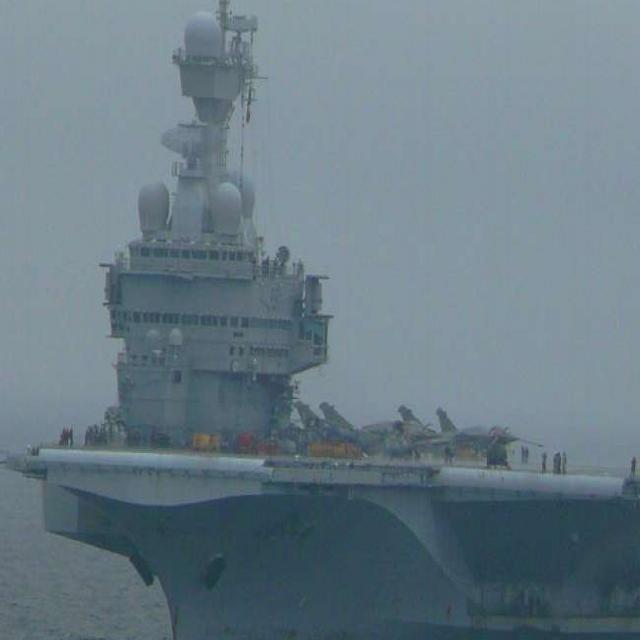Portanaves: (11, 1, 640, 640)
